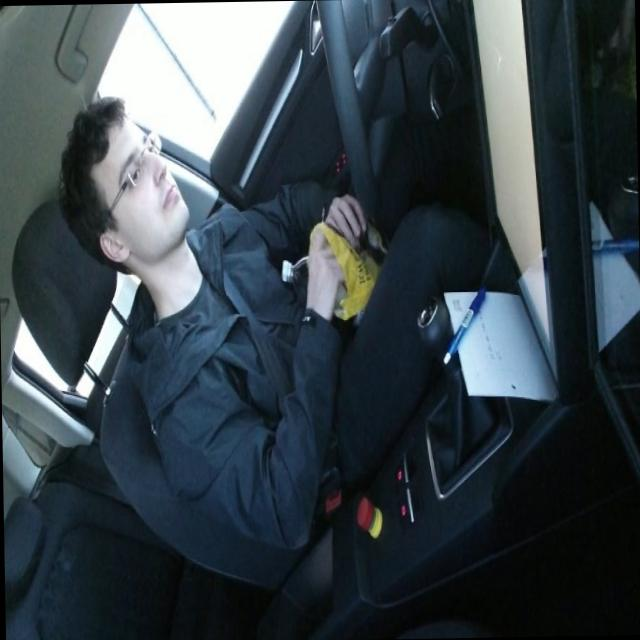pen: (441, 284, 486, 364)
